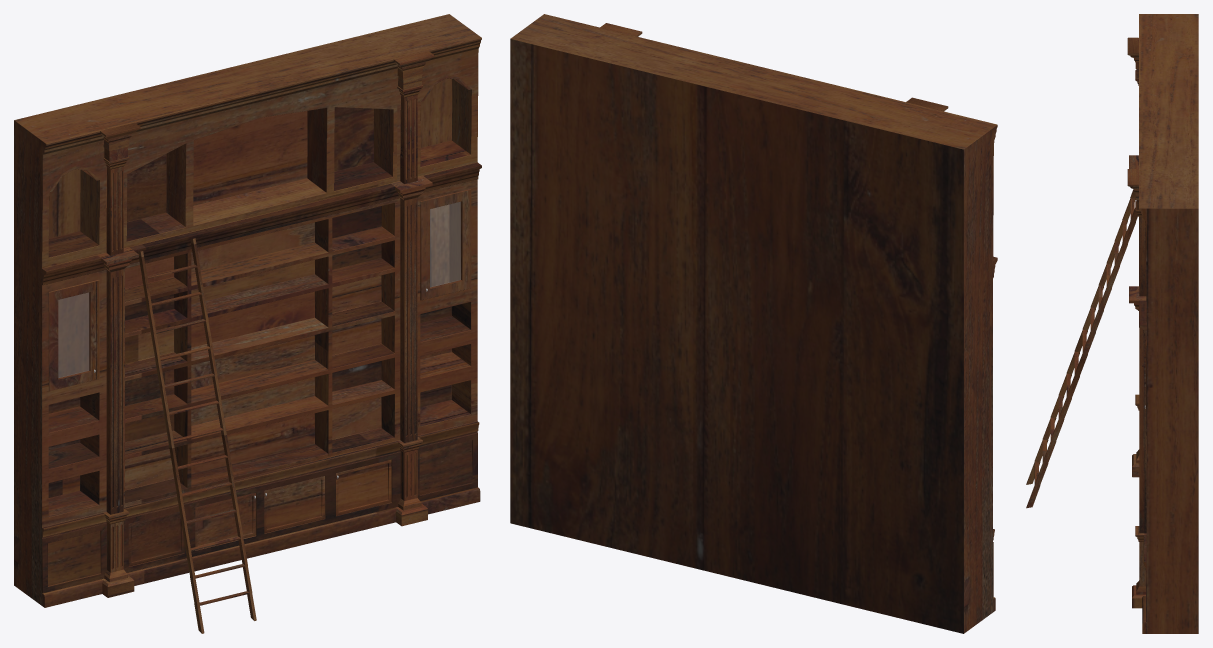
File: Bookcase.fbx
3 views of the same model, side by side, from view 1: azimuth 30°, elevation 25°; view 2: azimuth 150°, elevation 25°; view 3: azimuth 270°, elevation 25° (orthographic). The views are drawn at different scales.
Parts seen in each view (by area): view 1: Bookcase, Pillar, Ladder; view 2: Bookcase; view 3: Bookcase, Ladder, Pillar.
Boxes of the visible parts, bbox=[...] form: Bookcase: bbox=[14, 14, 481, 607]; Pillar: bbox=[97, 51, 434, 597]; Ladder: bbox=[138, 238, 256, 633]; Bookcase: bbox=[510, 14, 997, 633]; Bookcase: bbox=[1139, 14, 1198, 633]; Ladder: bbox=[1026, 189, 1138, 508]; Pillar: bbox=[1127, 37, 1146, 608].
Bounding box in the file's own units: 473 × 485 × 177.
